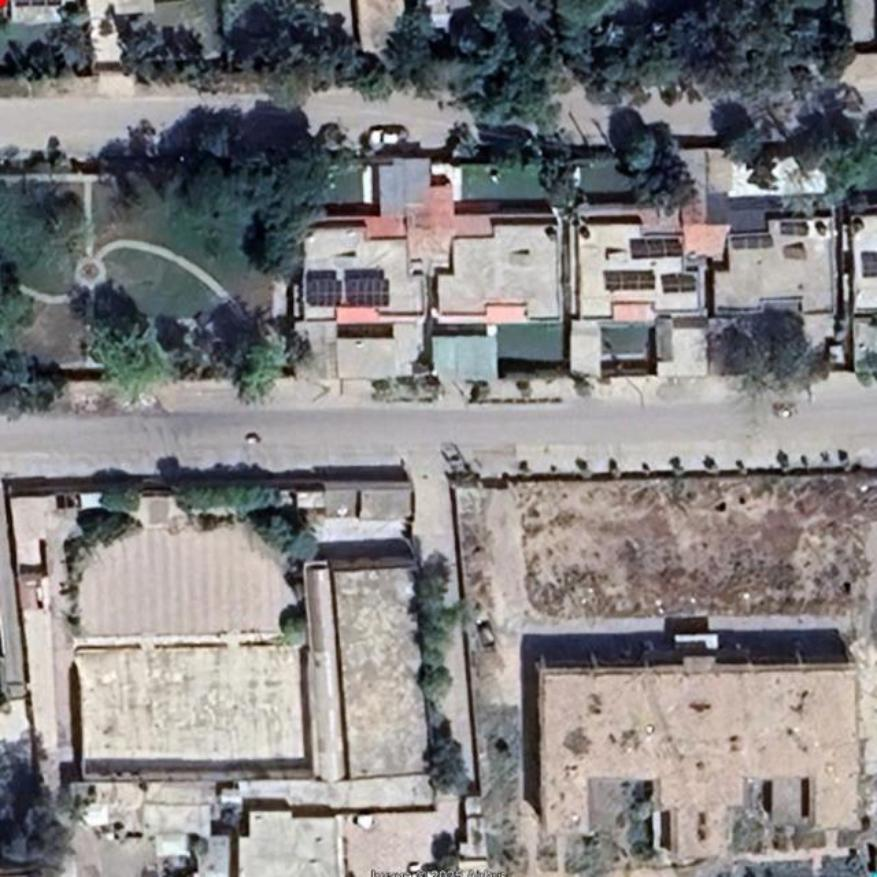Solarpanel: (347, 277, 392, 306), (306, 278, 344, 309), (606, 271, 659, 292), (632, 241, 684, 256), (661, 275, 699, 293)
